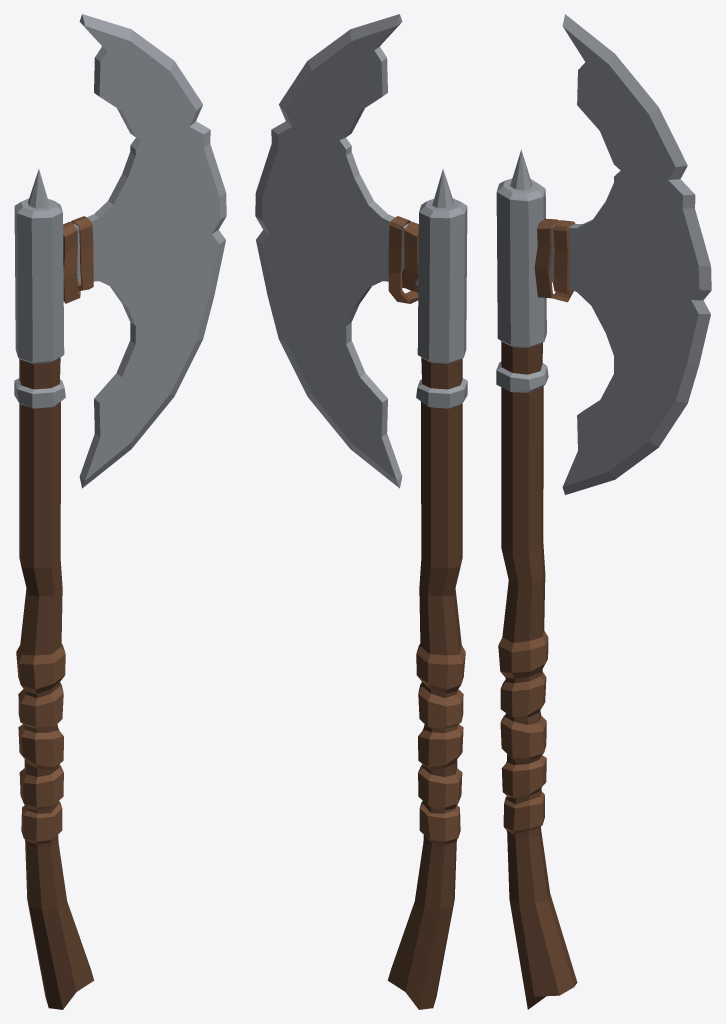
The model's file is Axe.glb.
3 views of the same model, side by side, from view 1: azimuth 30°, elevation 25°; view 2: azimuth 150°, elevation 25°; view 3: azimuth 330°, elevation 25° (orthographic).
Visible parts, largest first — view 1: Axe; view 2: Axe; view 3: Axe.
Boxes of the visible parts, bbox=[...] form: Axe: bbox=[14, 14, 226, 1009]; Axe: bbox=[255, 14, 467, 1009]; Axe: bbox=[496, 14, 711, 1009].
Bounding box in the file's own units: 1.17 × 5.26 × 0.2483.
